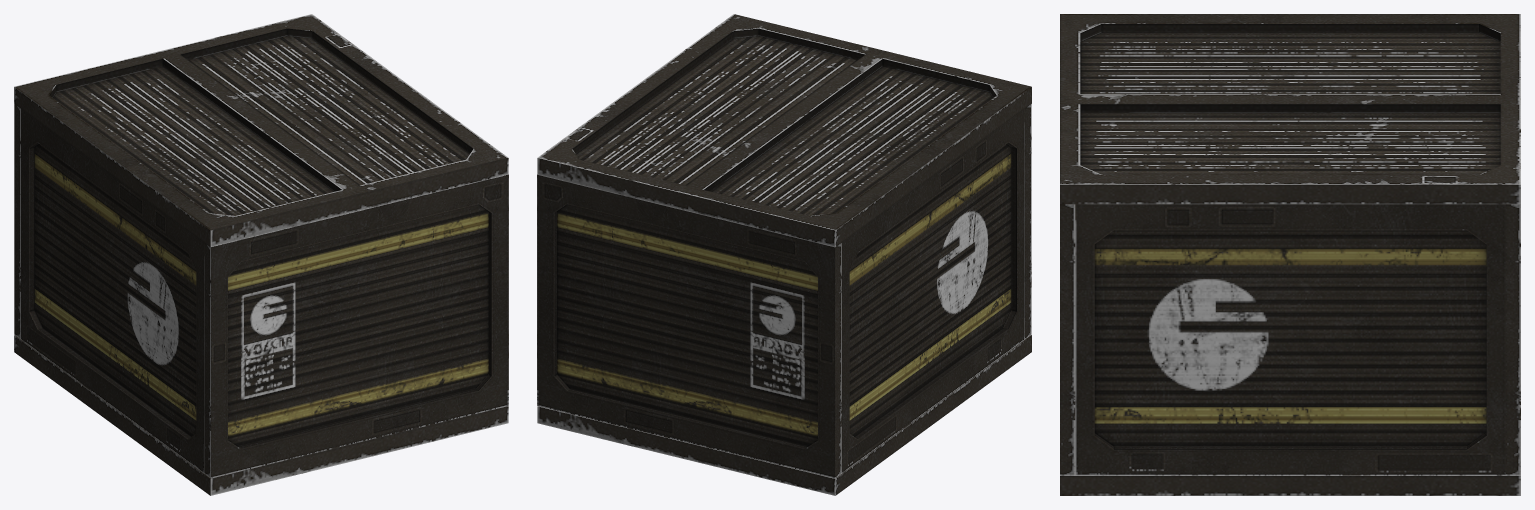
The model's file is BasicBox.FBX.
The picture shows the model from 3 angles, left to right: view 1: azimuth 30°, elevation 25°; view 2: azimuth 150°, elevation 25°; view 3: azimuth 270°, elevation 25°; orthographic projection. The views are drawn at different scales.
Parts seen in each view (by area): view 1: crate_back, crate_top, crate_left, crate_base, crate_front; view 2: crate_front, crate_top, crate_left, crate_base, crate_back; view 3: crate_right, crate_top, crate_base, crate_front, crate_back.
Boxes of the visible parts, x1,y1,x2,y2 form: crate_back: (204,174,508,478); crate_top: (14,14,508,247); crate_left: (21,109,204,473); crate_base: (14,335,508,495); crate_front: (14,104,20,339); crate_front: (537,174,841,478); crate_top: (537,14,1031,247); crate_left: (841,109,1024,473); crate_base: (537,335,1031,495); crate_back: (1025,104,1031,339); crate_right: (1075,204,1505,475); crate_top: (1060,14,1520,204); crate_base: (1060,475,1520,495); crate_front: (1505,204,1520,475); crate_back: (1060,204,1075,475).
Size of the model in its own units: 70.92 by 60.33 by 80.93.
1 material, 1 textured.
